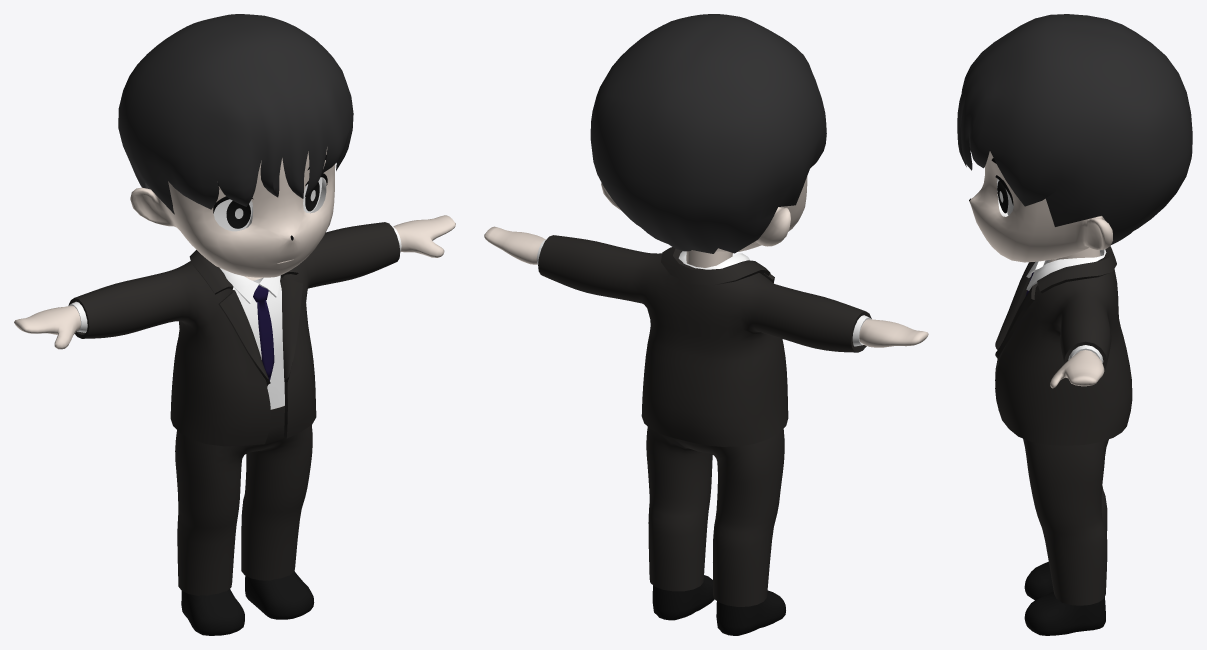
The model's file is Character_daddy.fbx.
3 renders of one model, left to right at view 1: azimuth 30°, elevation 25°; view 2: azimuth 150°, elevation 25°; view 3: azimuth 270°, elevation 25°, orthographic.
Parts seen in each view (by area): view 1: Head.002, Body.003, Body.002, Head, Cloth.shoes, Body, Body.001, Cube, Eye; view 2: Head.002, Body.003, Body.002, Cloth.shoes, Body, Head, Body.001; view 3: Head.002, Body.003, Body.002, Head, Cloth.shoes, Body, Body.001.
Boxes of the visible parts, box(x1,y1,x2,y2) form: Head.002: box(118, 14, 353, 214); Body.003: box(69, 222, 400, 446); Body.002: box(175, 406, 312, 595); Head: box(130, 147, 335, 277); Cloth.shoes: box(181, 571, 314, 635); Body: box(14, 215, 455, 409); Body.001: box(68, 226, 401, 409); Cube: box(253, 285, 274, 380); Eye: box(226, 182, 319, 228); Head.002: box(590, 14, 826, 253); Body.003: box(538, 235, 871, 446); Body.002: box(646, 427, 784, 606); Cloth.shoes: box(652, 575, 785, 635); Body: box(484, 226, 928, 347); Head: box(601, 176, 807, 252); Body.001: box(536, 239, 871, 346); Head.002: box(957, 14, 1192, 244); Body.003: box(995, 246, 1132, 445); Body.002: box(1023, 438, 1108, 605); Head: box(969, 151, 1112, 262); Cloth.shoes: box(1024, 561, 1105, 635); Body: box(1048, 248, 1104, 388); Body.001: box(1026, 249, 1106, 362).
Bounding box in the file's own units: 91.59 × 118 × 43.21.
